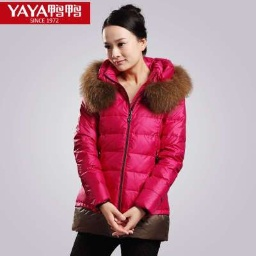face: (96, 2, 162, 75)
